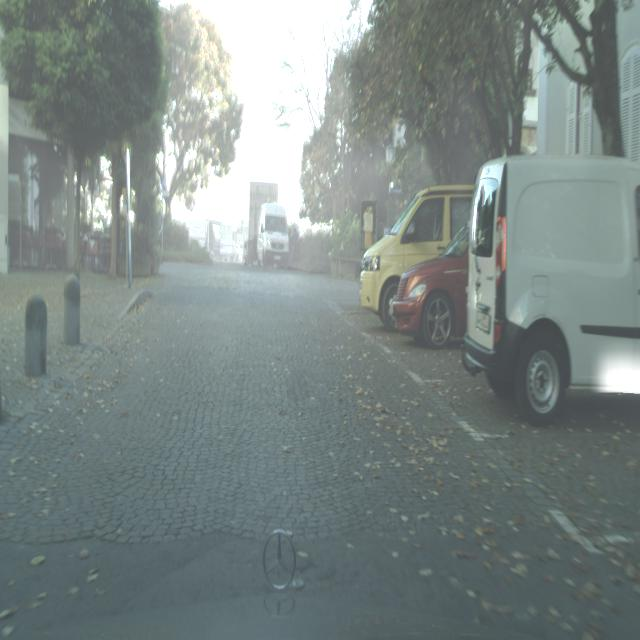bicycle: (460, 151, 639, 424), (244, 181, 290, 269)
bus: (461, 151, 639, 424), (359, 184, 472, 332), (392, 224, 470, 348), (217, 239, 239, 264)
